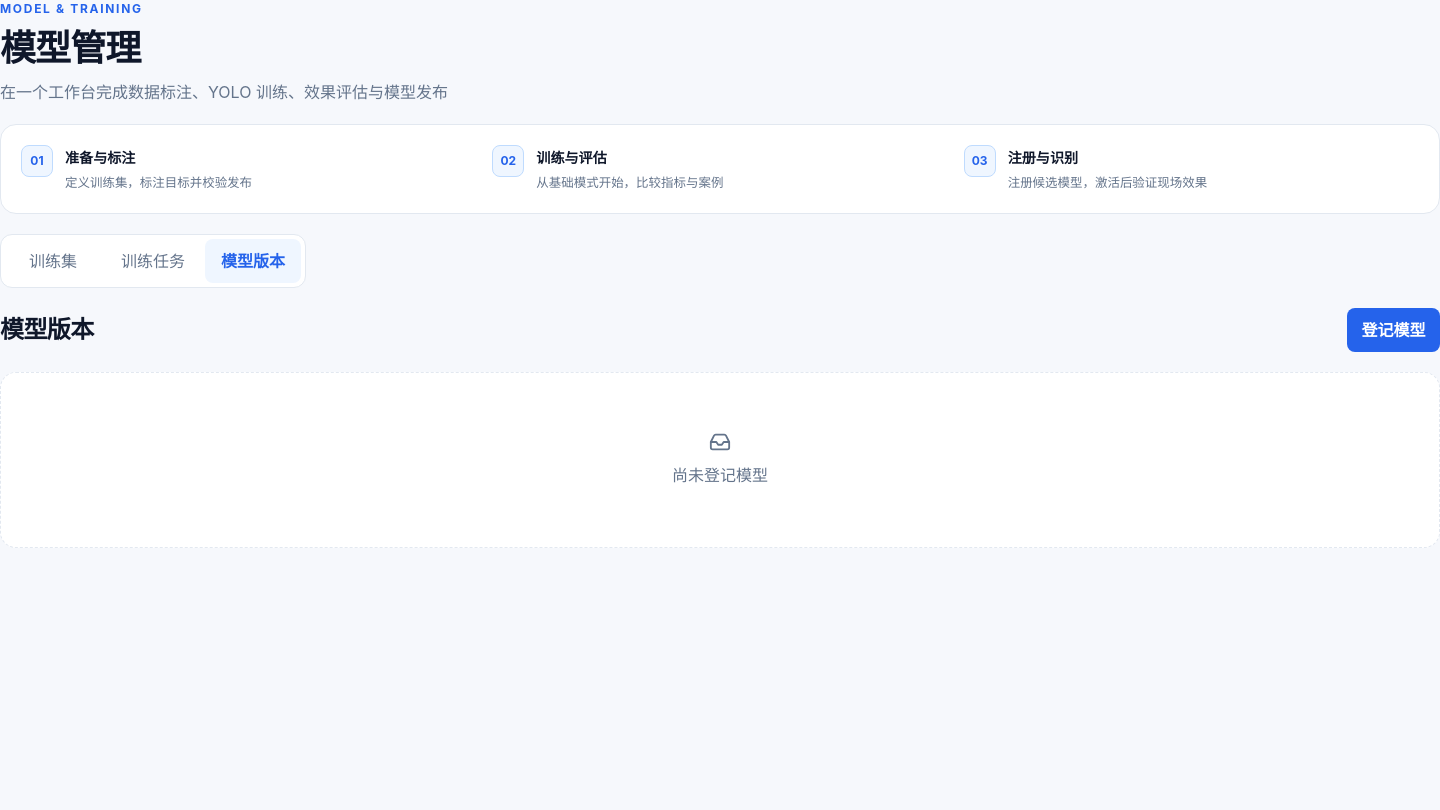
model training console › shows catalog range and combination errors and explains why submission is disabled
The width and height of the screenshot is (1440, 810).
Click the tab "训练任务" at (153, 261), box left=105, top=239, right=201, bottom=283
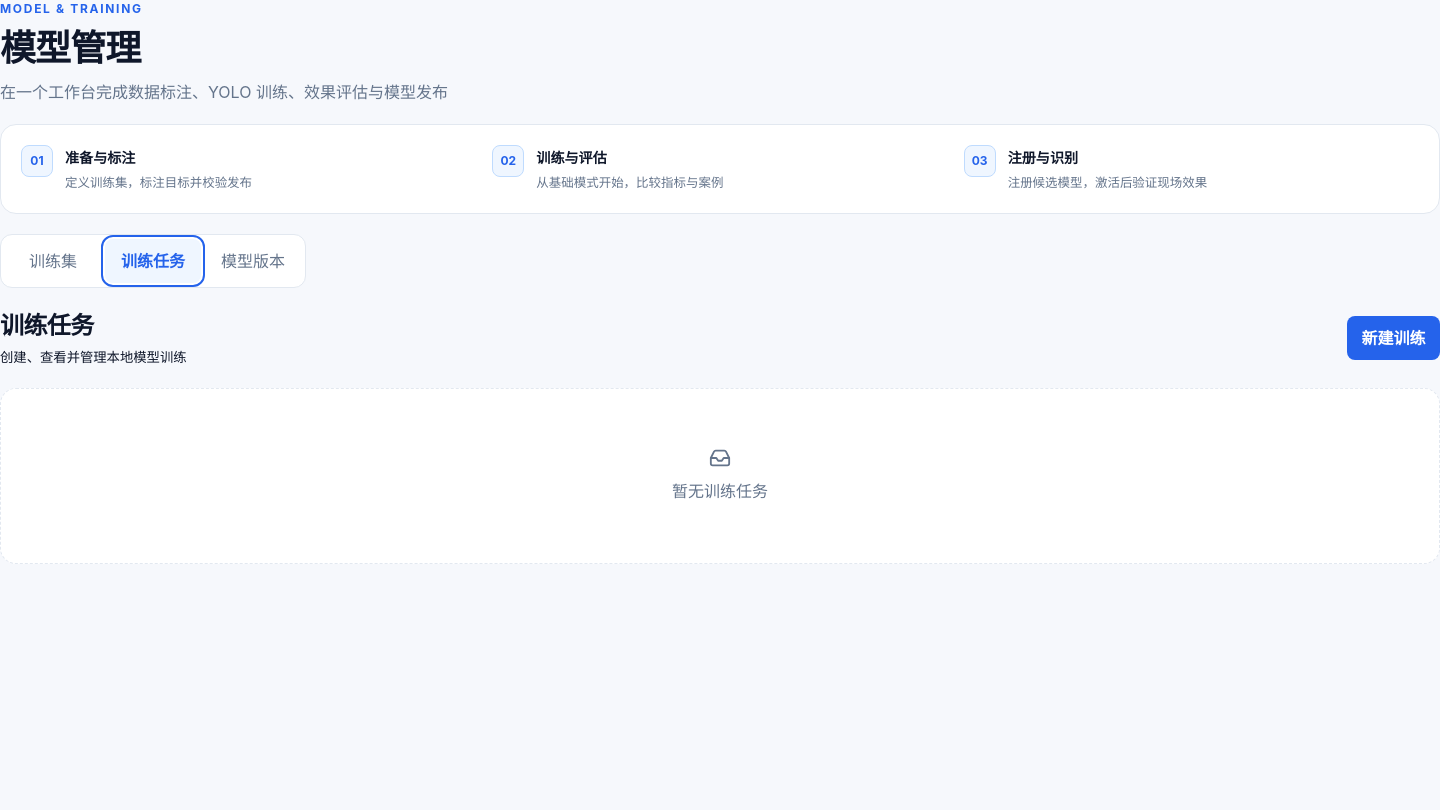
Click the button "新建训练" at (1394, 338), box left=1347, top=316, right=1439, bottom=360
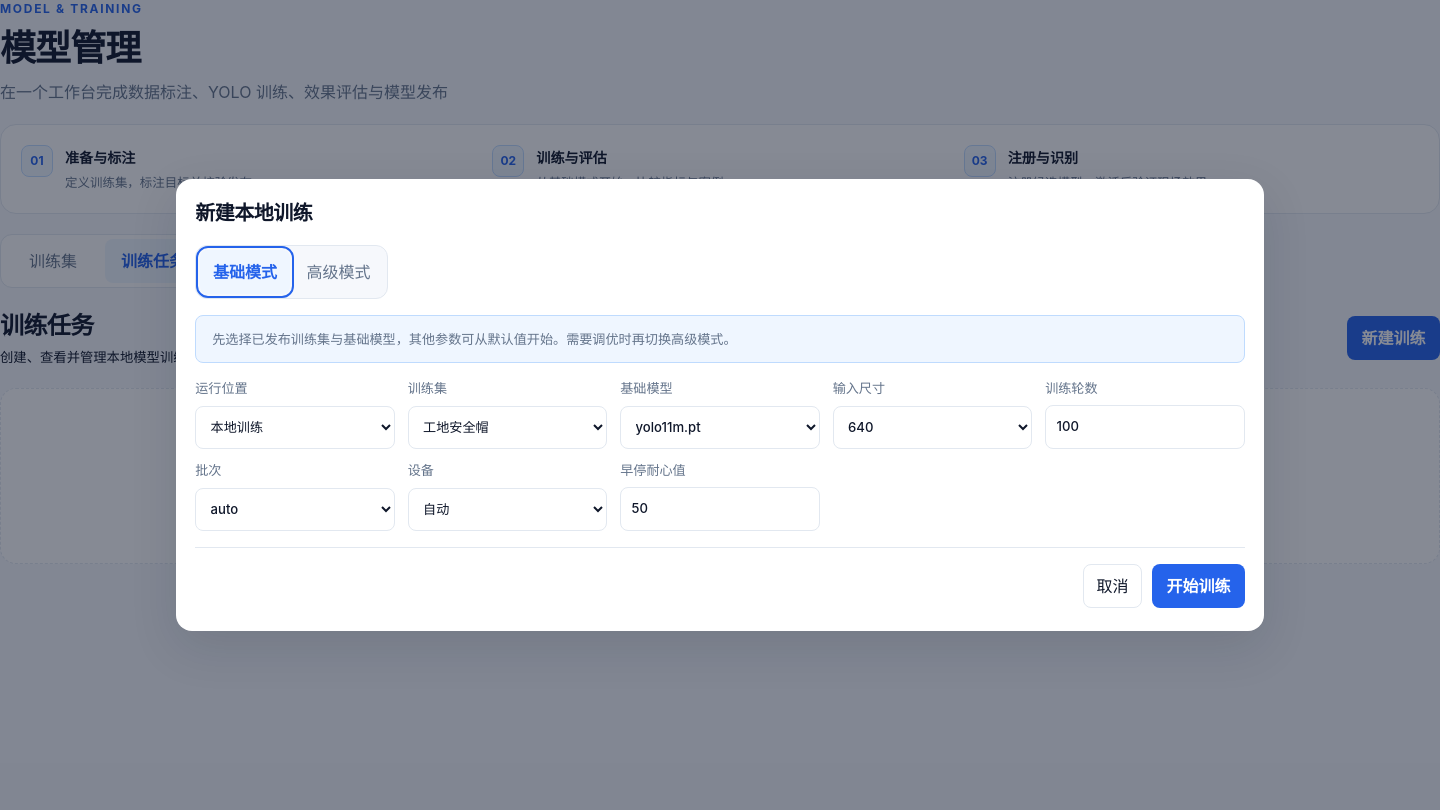
Click the tab "高级模式" at (339, 272), box left=294, top=250, right=383, bottom=294
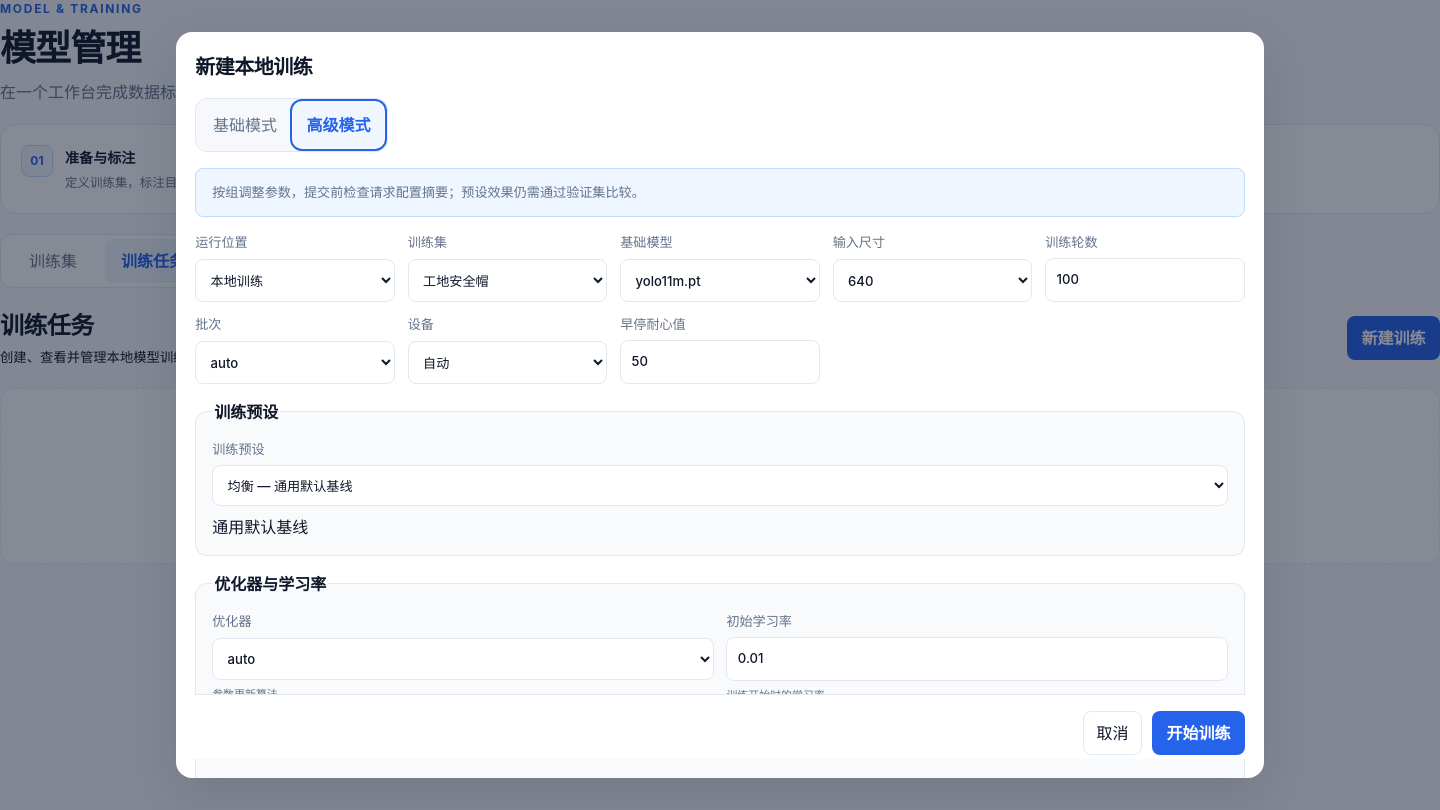
Replace the text in the number field labelled "初始学习率" with "0.2" at (977, 659), box left=726, top=637, right=1228, bottom=681
(page scrolled)
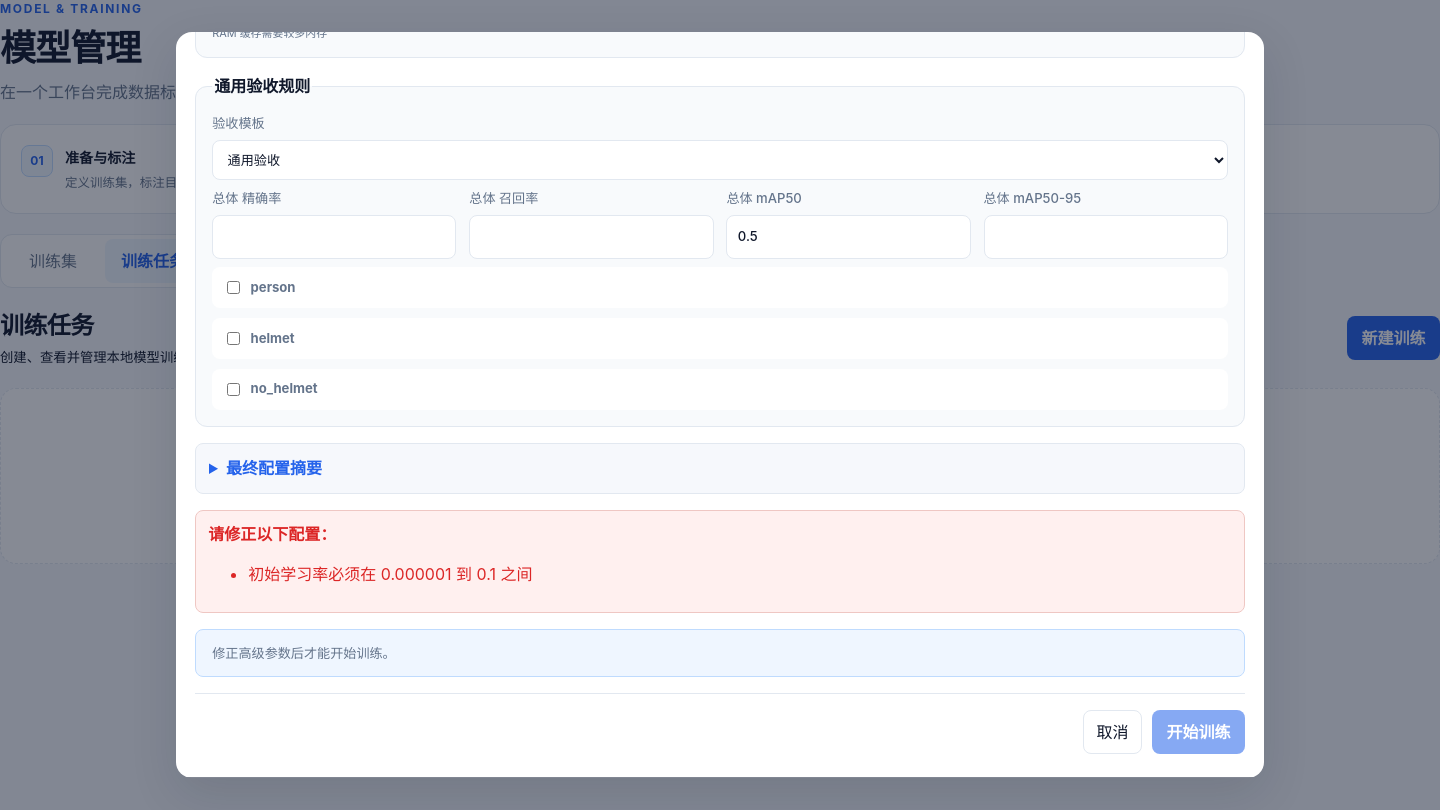
Now the button "开始训练" is disabled, box left=1152, top=710, right=1245, bottom=754
Now the message shows "初始学习率必须在 0.000001 到 0.1 之间", box left=248, top=564, right=532, bottom=584
Now the text "修正高级参数后才能开始训练。" is shown, box left=195, top=629, right=1245, bottom=677
